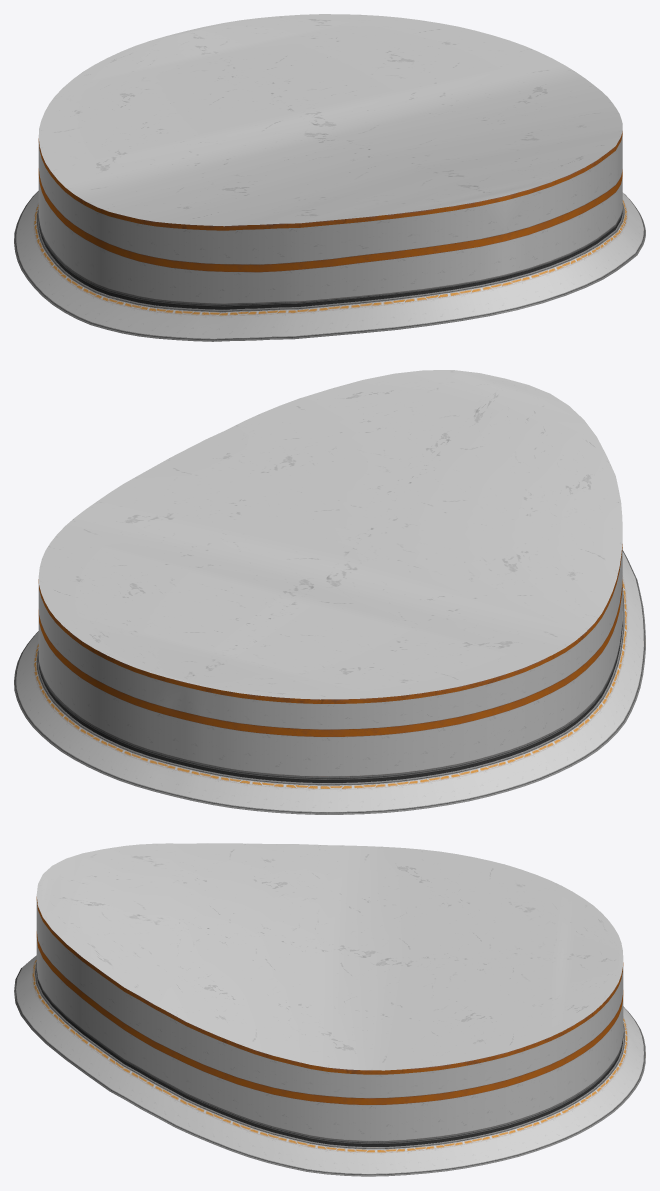
File: Roof_.fbx
The picture shows the model from 3 angles, top to bottom: view 1: azimuth 30°, elevation 25°; view 2: azimuth 150°, elevation 25°; view 3: azimuth 270°, elevation 25°; orthographic projection. The views are drawn at different scales.
Parts seen in each view (by area): view 1: Roof; view 2: Roof; view 3: Roof.
Part boxes in pixels (bbox=[...]): Roof: bbox=[14, 14, 645, 341]; Roof: bbox=[14, 370, 645, 814]; Roof: bbox=[14, 843, 645, 1176].
Bounding box in the file's own units: 120 × 36.8 × 132.
